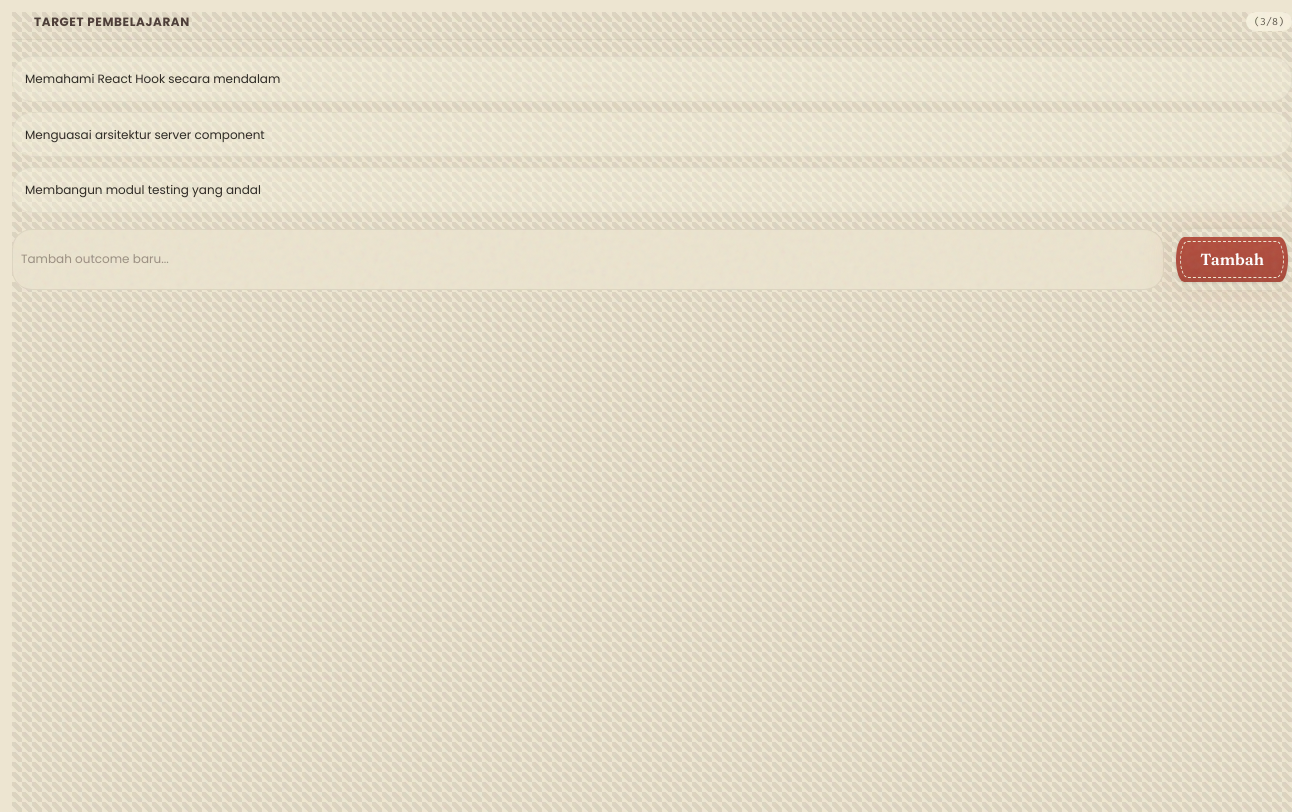
LearningOutcomesEditor › validates outcomes length before adding (min 15 chars)
Note: Enter invalid short text
In the field with placeholder "Tambah outcome baru...": [588, 259] box [12,228,1164,290], type "Terlalu pendek"
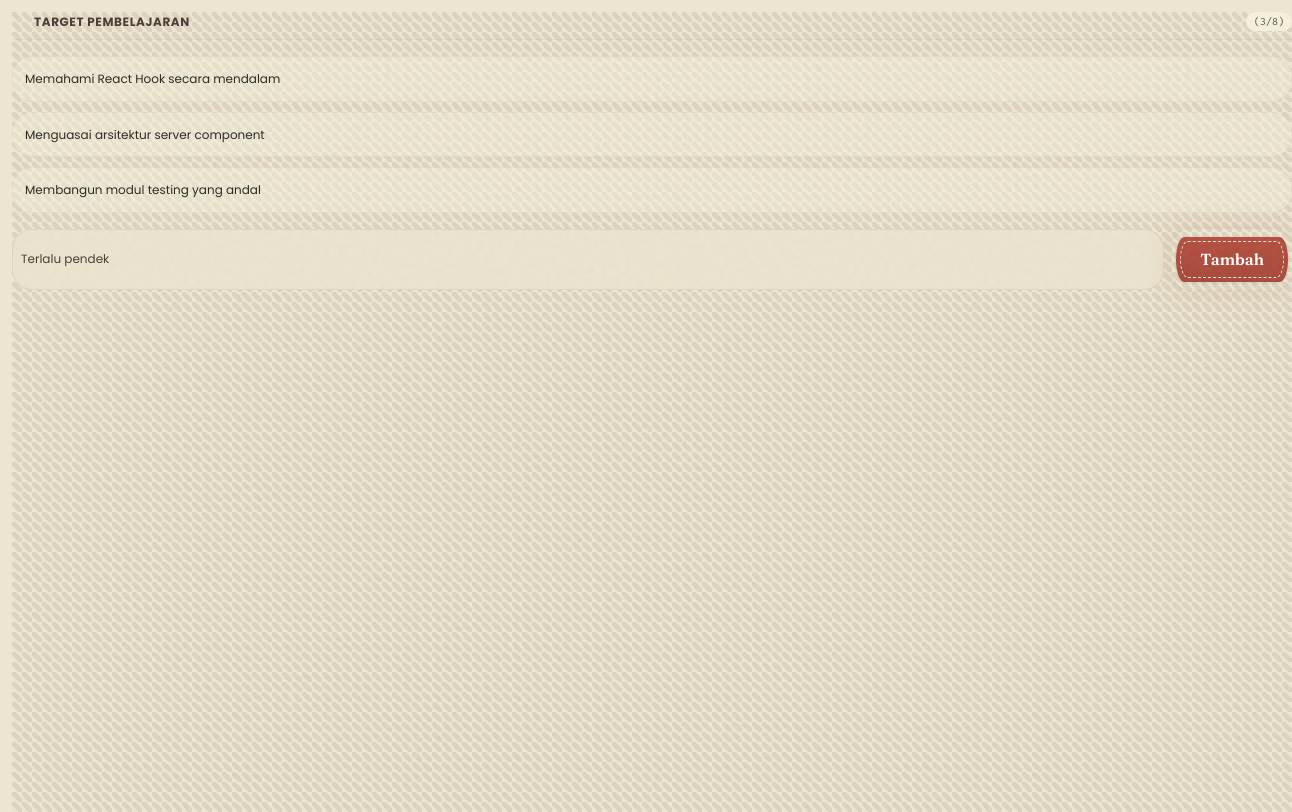
Click the button "Tambah": [1232, 259] box [1176,236,1288,282]
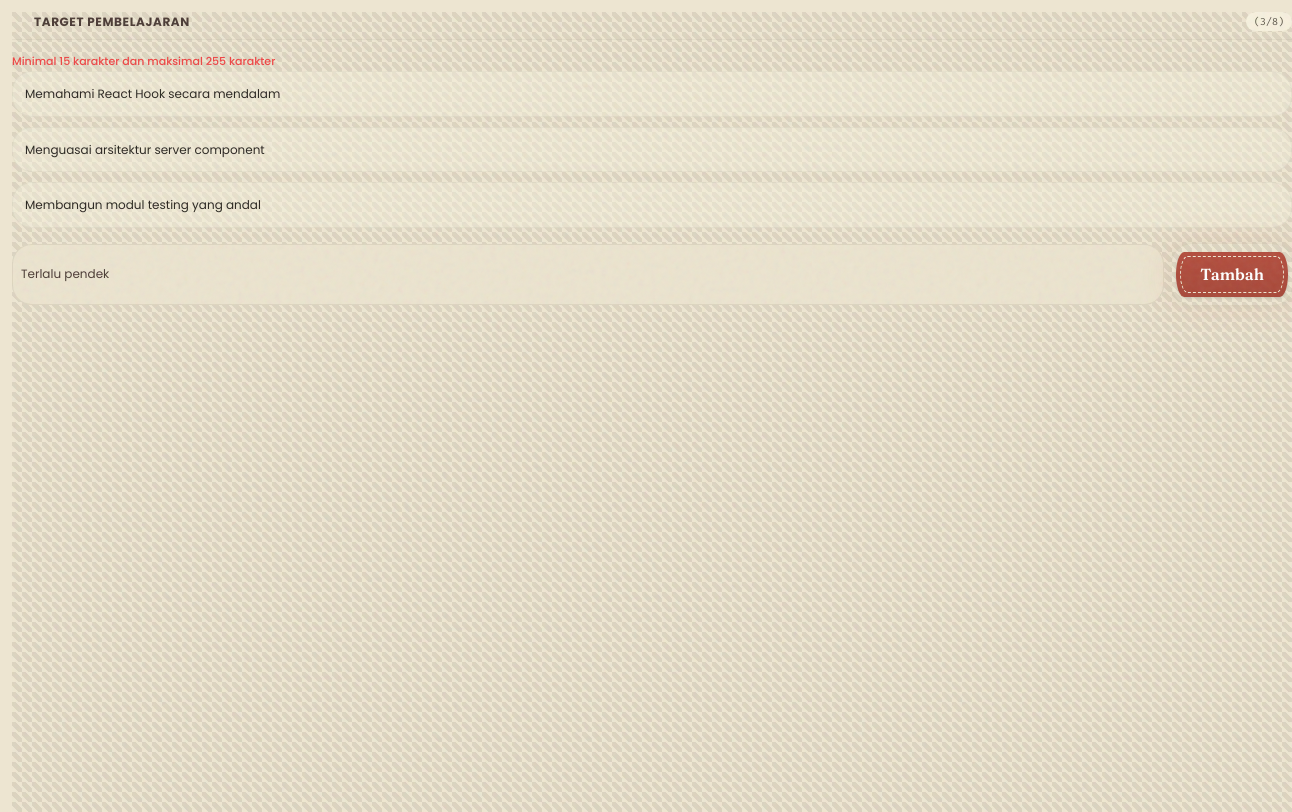
Check: the text "Minimal 15 karakter dan maksimal 255 karakter" is shown, box [12,53,275,69]
